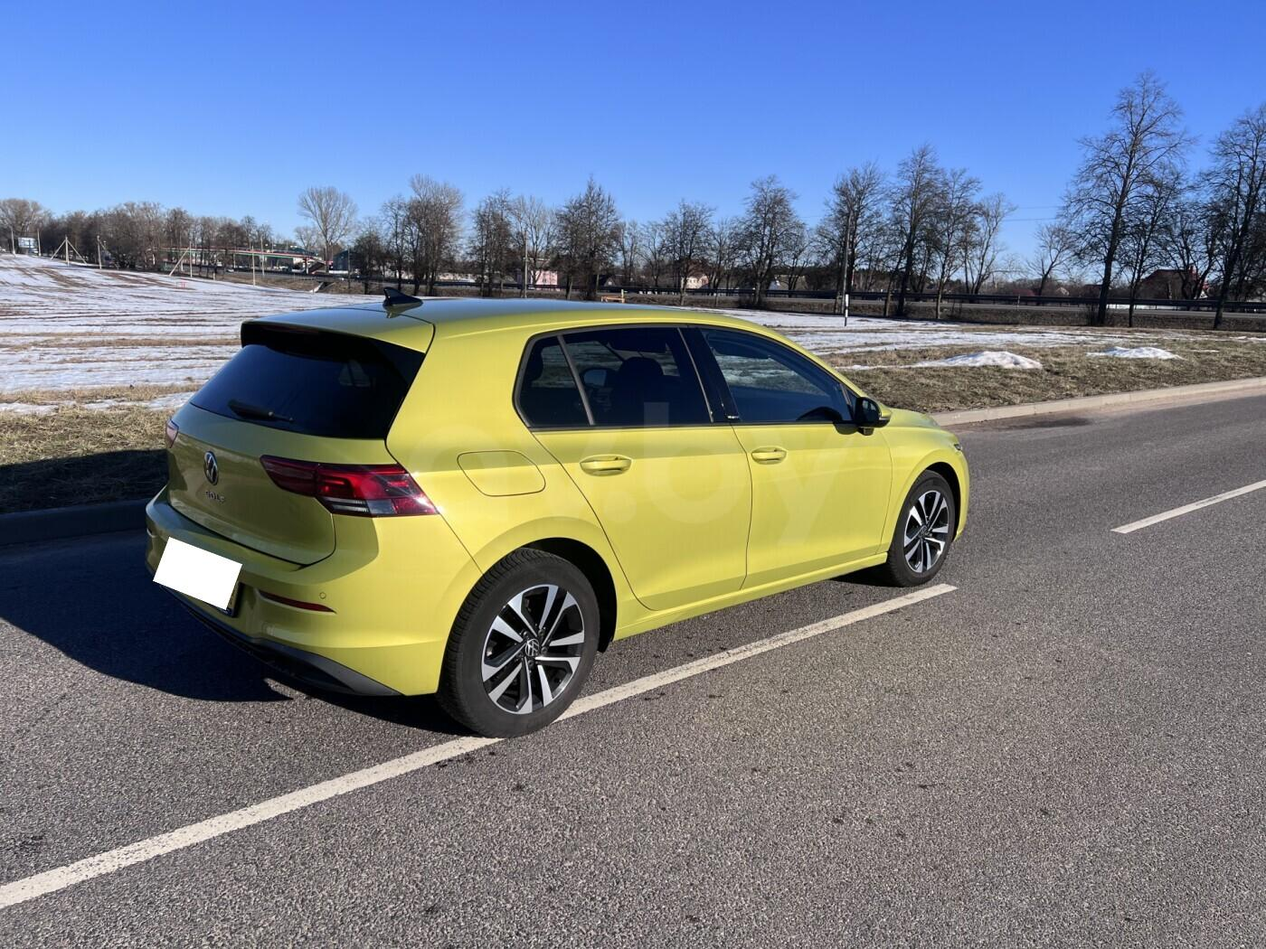Golf_2019: (132, 297, 975, 740)
